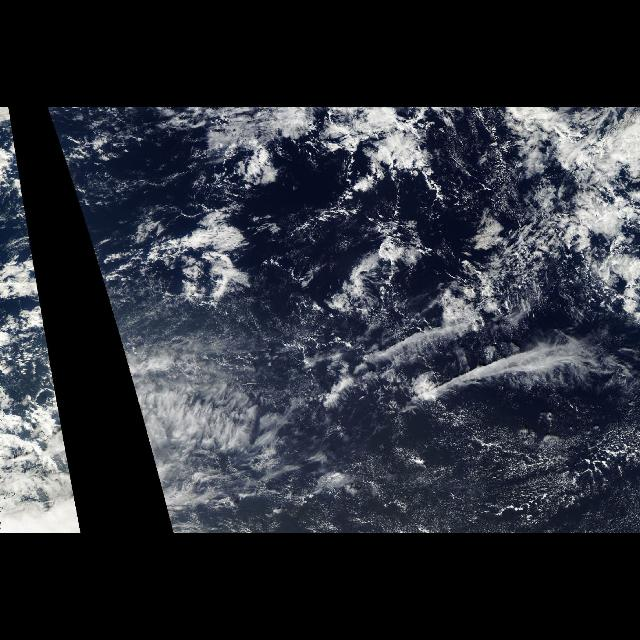Fish: (356, 299, 634, 446)
Gravel: (462, 424, 640, 532)
Sugar: (274, 401, 640, 533)
